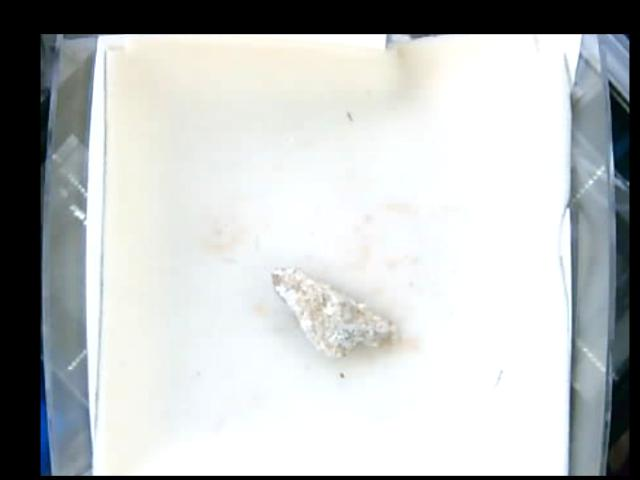Brisk: (271, 265, 385, 355)
